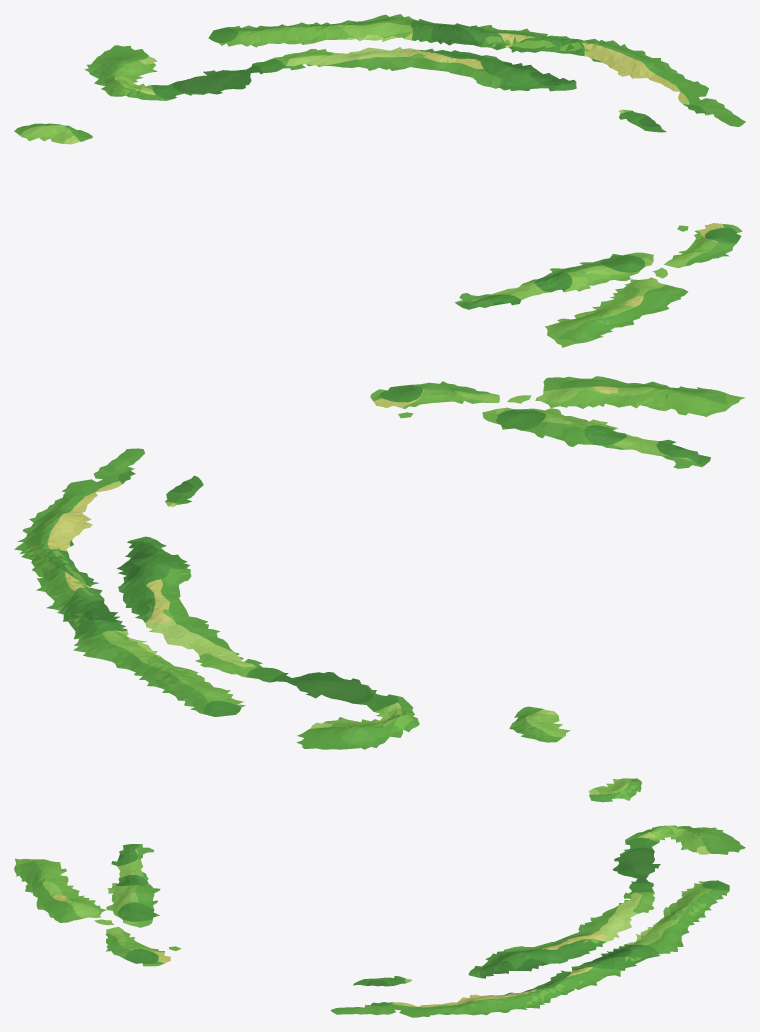
Rendered from Isl-atoll1-Relief.fbx.
3 renders of one model, top to bottom at view 1: azimuth 30°, elevation 25°; view 2: azimuth 150°, elevation 25°; view 3: azimuth 270°, elevation 25°, orthographic. The views are drawn at different scales.
Parts seen in each view (by area): view 1: Isl-atoll1-Relief-c22, Isl-atoll1-Relief-c21, Isl-atoll1-Relief-c12, Isl-atoll1-Relief-c20, Isl-atoll1-Relief-c32, Isl-atoll1-Relief-c13, Isl-atoll1-Relief-c23, Isl-atoll1-Relief-c11, Isl-atoll1-Relief-c10, Isl-atoll1-Relief-c31; view 2: Isl-atoll1-Relief-c22, Isl-atoll1-Relief-c21, Isl-atoll1-Relief-c12, Isl-atoll1-Relief-c20, Isl-atoll1-Relief-c32, Isl-atoll1-Relief-c23, Isl-atoll1-Relief-c13, Isl-atoll1-Relief-c11, Isl-atoll1-Relief-c10, Isl-atoll1-Relief-c31; view 3: Isl-atoll1-Relief-c22, Isl-atoll1-Relief-c21, Isl-atoll1-Relief-c12, Isl-atoll1-Relief-c32, Isl-atoll1-Relief-c20, Isl-atoll1-Relief-c23, Isl-atoll1-Relief-c13, Isl-atoll1-Relief-c11, Isl-atoll1-Relief-c31.
Part boxes in pixels (left/top/right/bottom): Isl-atoll1-Relief-c22: left=216, top=14, right=651, bottom=122; Isl-atoll1-Relief-c21: left=515, top=119, right=742, bottom=298; Isl-atoll1-Relief-c12: left=14, top=69, right=241, bottom=144; Isl-atoll1-Relief-c20: left=557, top=284, right=688, bottom=341; Isl-atoll1-Relief-c32: left=577, top=39, right=717, bottom=108; Isl-atoll1-Relief-c13: left=84, top=45, right=157, bottom=84; Isl-atoll1-Relief-c23: left=208, top=20, right=347, bottom=46; Isl-atoll1-Relief-c11: left=455, top=288, right=527, bottom=309; Isl-atoll1-Relief-c10: left=545, top=322, right=586, bottom=347; Isl-atoll1-Relief-c31: left=689, top=102, right=745, bottom=126; Isl-atoll1-Relief-c22: left=31, top=488, right=333, bottom=692; Isl-atoll1-Relief-c21: left=174, top=381, right=649, bottom=494; Isl-atoll1-Relief-c12: left=306, top=672, right=570, bottom=742; Isl-atoll1-Relief-c20: left=543, top=376, right=718, bottom=415; Isl-atoll1-Relief-c32: left=14, top=471, right=129, bottom=562; Isl-atoll1-Relief-c23: left=117, top=665, right=245, bottom=716; Isl-atoll1-Relief-c13: left=296, top=718, right=401, bottom=749; Isl-atoll1-Relief-c11: left=636, top=439, right=710, bottom=468; Isl-atoll1-Relief-c10: left=689, top=391, right=745, bottom=416; Isl-atoll1-Relief-c31: left=98, top=448, right=144, bottom=479; Isl-atoll1-Relief-c22: left=381, top=867, right=688, bottom=997; Isl-atoll1-Relief-c21: left=77, top=868, right=383, bottom=986; Isl-atoll1-Relief-c12: left=588, top=778, right=688, bottom=868; Isl-atoll1-Relief-c32: left=382, top=991, right=554, bottom=1017; Isl-atoll1-Relief-c20: left=14, top=865, right=84, bottom=922; Isl-atoll1-Relief-c23: left=682, top=880, right=729, bottom=931; Isl-atoll1-Relief-c13: left=682, top=826, right=745, bottom=854; Isl-atoll1-Relief-c11: left=111, top=844, right=153, bottom=869; Isl-atoll1-Relief-c31: left=331, top=1002, right=384, bottom=1015.
Bounding box in the file's own units: 98.44 × 1.56 × 127.
